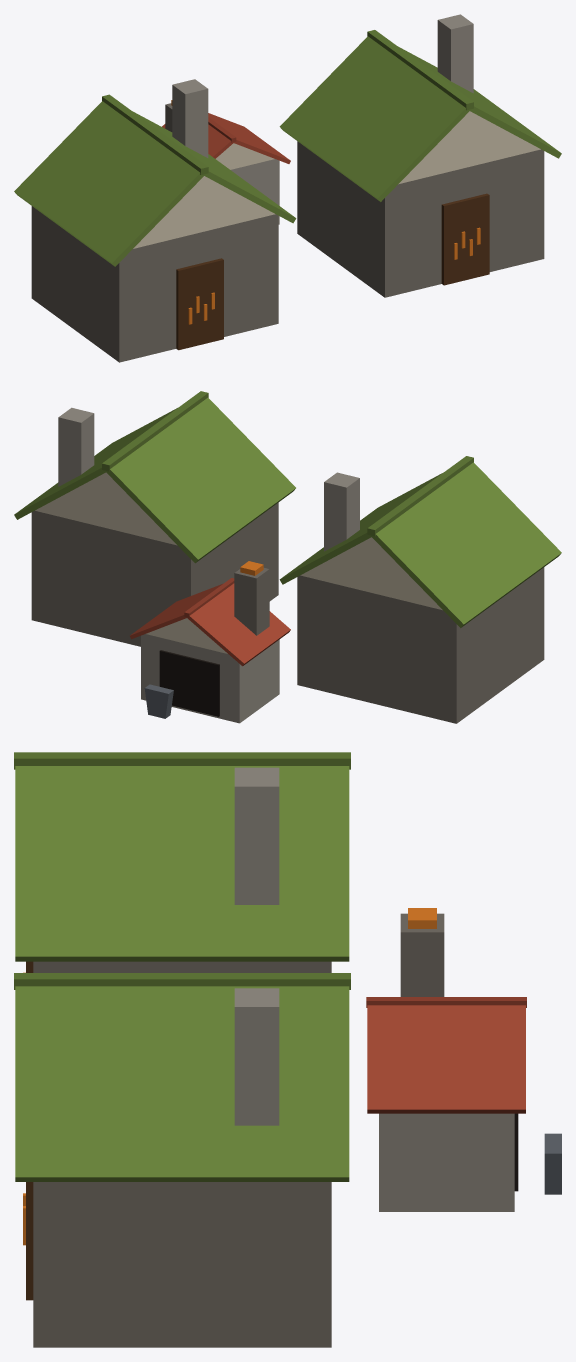
Rendered from dwarf_row.glb.
3 views of the same model, one above another, from view 1: azimuth 30°, elevation 25°; view 2: azimuth 150°, elevation 25°; view 3: azimuth 270°, elevation 25° (orthographic). The views are drawn at different scales.
Parts seen in each view (by area): view 1: dwarf_row; view 2: dwarf_row; view 3: dwarf_row.
Boxes of the visible parts, box(x1,y1,x2,y2) form: dwarf_row: box(14, 14, 561, 362); dwarf_row: box(14, 391, 561, 723); dwarf_row: box(14, 752, 561, 1347).
Bounding box in the file's own units: 5.93 × 2.45 × 3.68.
